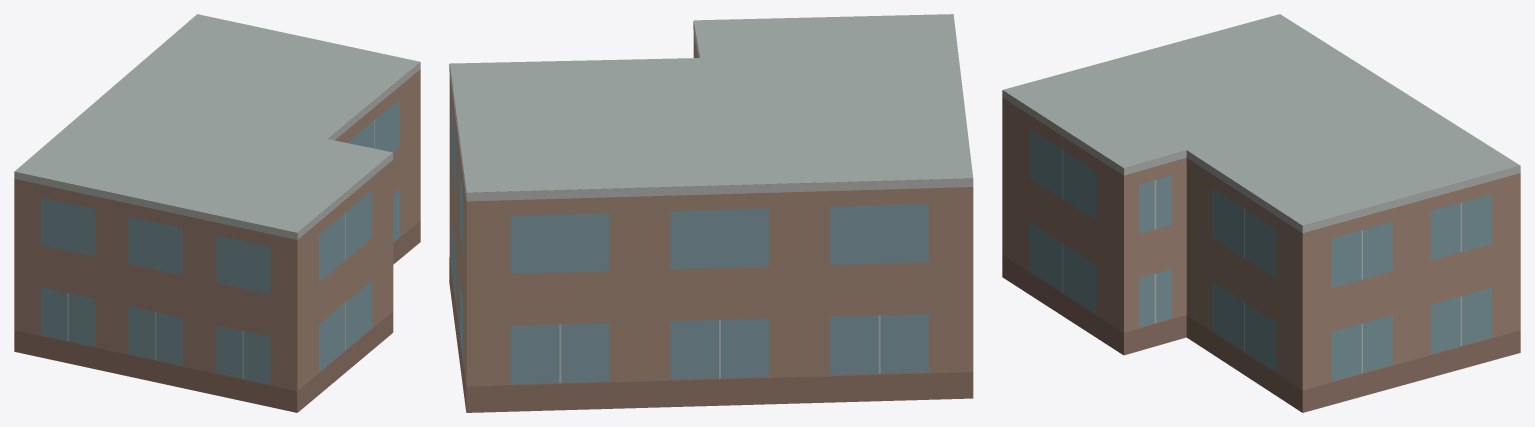
The model's file is survey-upis-32792840.glb.
The picture shows the model from 3 angles, left to right: view 1: azimuth 30°, elevation 25°; view 2: azimuth 150°, elevation 25°; view 3: azimuth 270°, elevation 25°; orthographic projection. The views are drawn at different scales.
Visible parts, largest first — view 1: survey-upis-32792840.tmp; view 2: survey-upis-32792840.tmp; view 3: survey-upis-32792840.tmp.
Part boxes in pixels (bbox=[...]): survey-upis-32792840.tmp: bbox=[14, 14, 420, 412]; survey-upis-32792840.tmp: bbox=[449, 14, 973, 412]; survey-upis-32792840.tmp: bbox=[1002, 14, 1520, 412].
Bounding box in the file's own units: 14.8 × 6.1 × 15.31.
